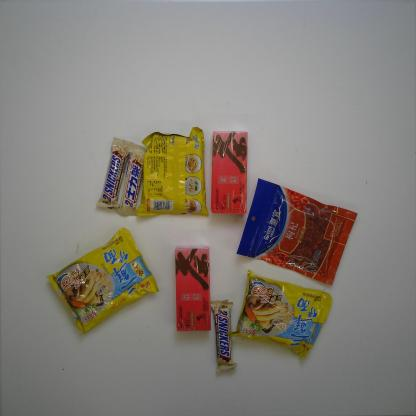Chocolate: (110, 142, 148, 218), (93, 139, 134, 209), (207, 297, 238, 376)
Dried Fruit: (234, 178, 358, 288)
Instant Drink: (209, 128, 250, 216), (172, 243, 212, 333)
Instant Noodles: (42, 224, 160, 336), (224, 268, 334, 364), (134, 127, 208, 220)
